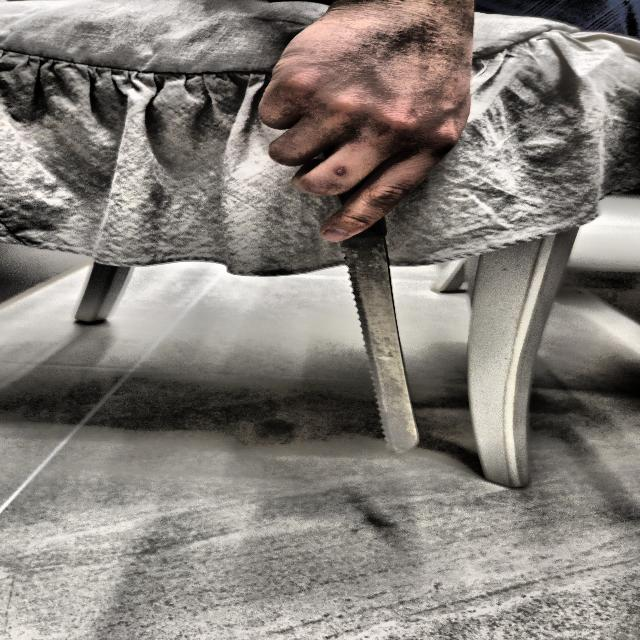knife: (318, 137, 424, 456)
